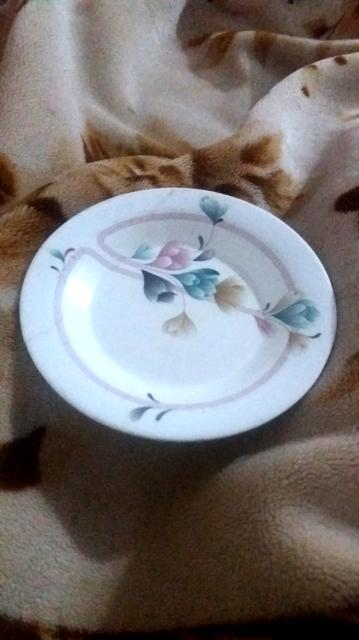Plate: (20, 188, 336, 441)
